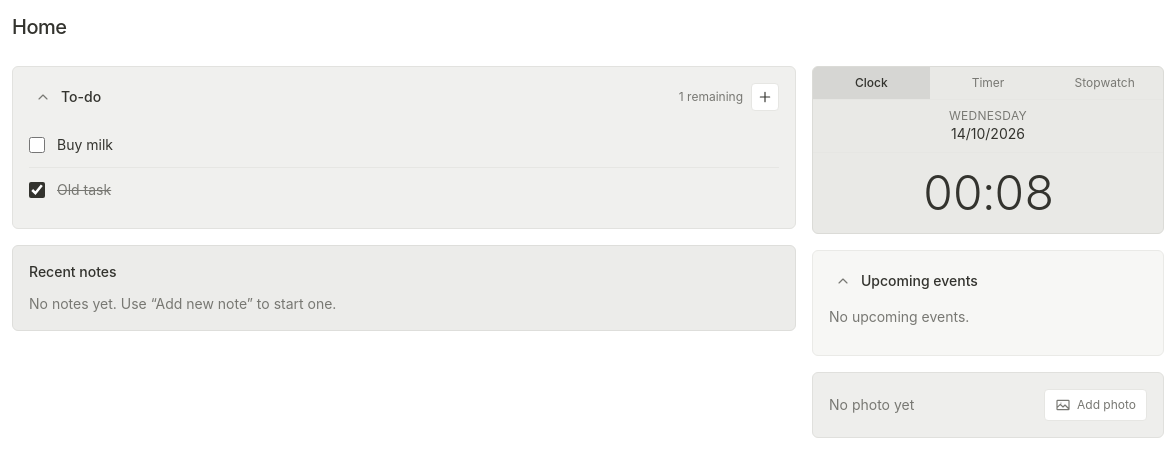
Test: To-do widget on Home › shows an error when saving fails and reloads the saved state
What coordinates should you click on to do the following:
click the checkbox named "Mark \"Buy milk\" as done"
I would click on:
 (37, 145)
Its box is left=29, top=137, right=45, bottom=153.
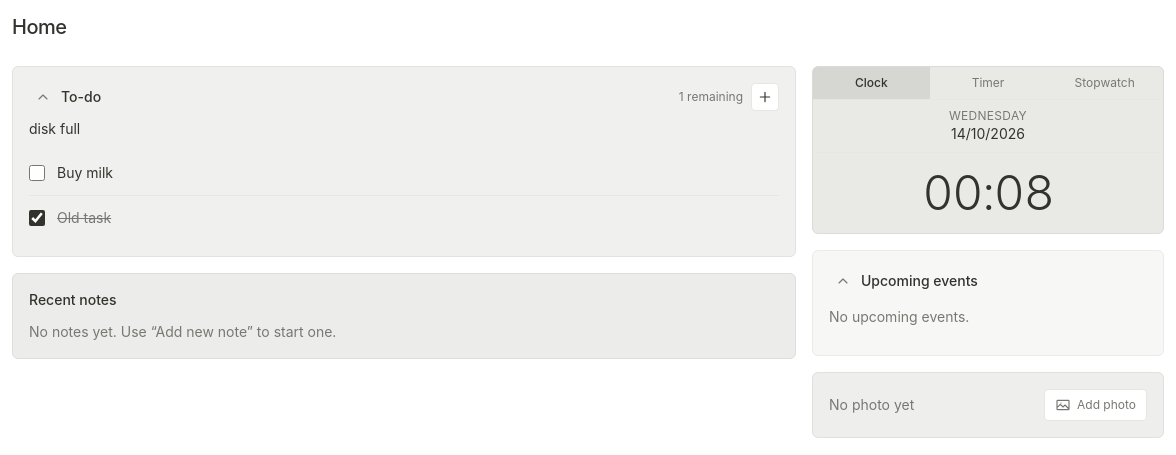
Check: the checkbox named "Mark \"Buy milk\" as done" is not checked, box left=29, top=165, right=45, bottom=181
Check: the message reads "disk full", box left=29, top=120, right=80, bottom=137
